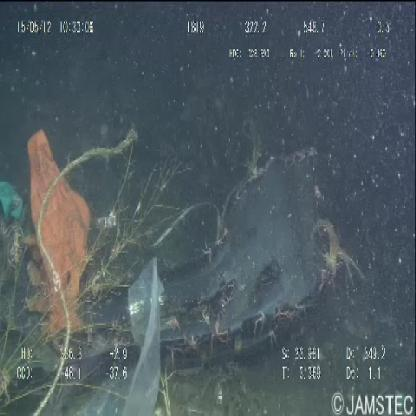Rác: (42, 256, 164, 414)
